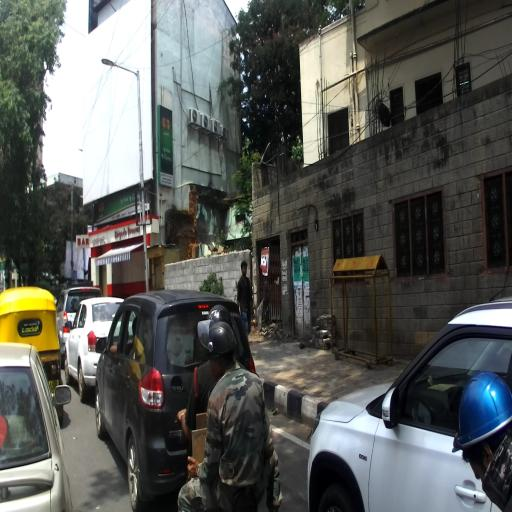street_light_0: (100, 58, 140, 78)
